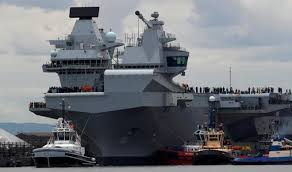tau_muctieu: (50, 14, 281, 151)
